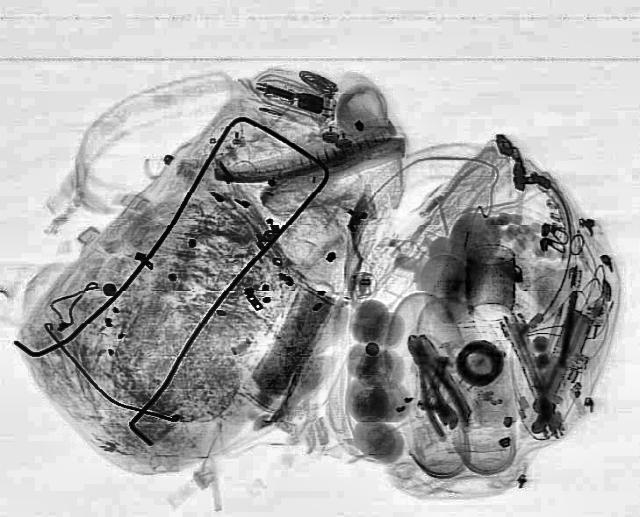Pliers: (389, 330, 476, 438)
